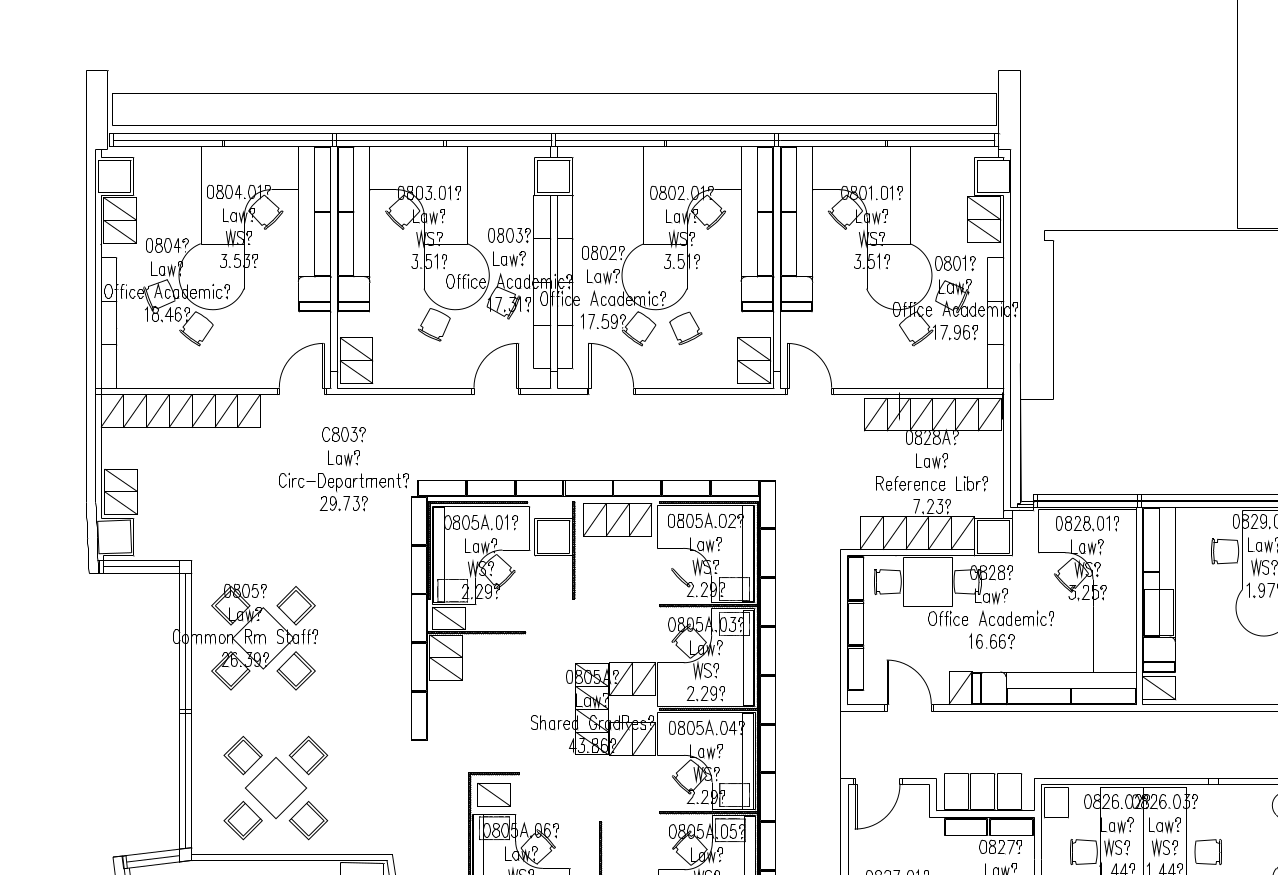door: (271, 337, 328, 401), (464, 332, 521, 396), (580, 338, 637, 402), (784, 335, 841, 399), (879, 653, 936, 717), (850, 772, 907, 836)
